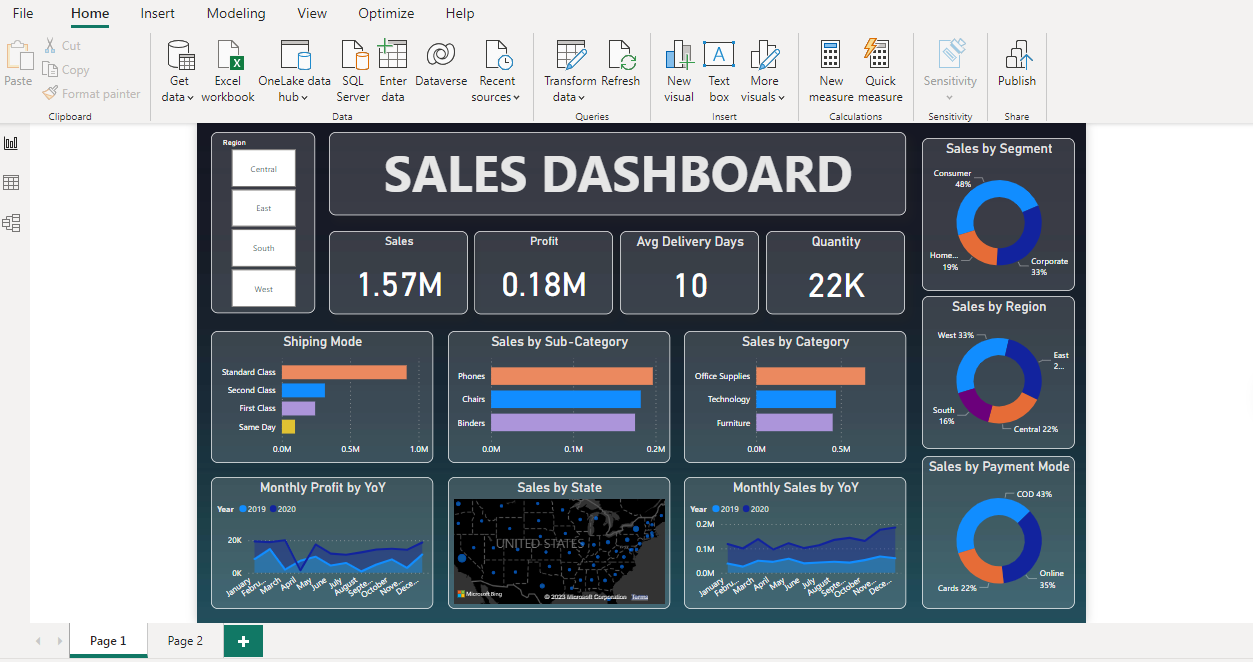

This screenshot's page, from the dashboard's own definition file:
{"tool":"powerbi","page":{"name":"Page 1","canvas":[1280,720],"ordinal":0},"visuals":[{"type":"clusteredBarChart","title":"Sales by Category","fields":{"Category":["SuperStore_Sales_Dataset.Category"],"Y":["Sum(SuperStore_Sales_Dataset.Sales)"]},"box":[701.3,299.5,319.7,190.1],"z":0},{"type":"clusteredBarChart","title":"Sales by Sub-Category","fields":{"Category":["SuperStore_Sales_Dataset.Sub-Category"],"Y":["Sum(SuperStore_Sales_Dataset.Sales)"]},"box":[360.7,299.5,319.7,190.1],"z":1000},{"type":"clusteredBarChart","title":"Shiping Mode","fields":{"Category":["SuperStore_Sales_Dataset.Ship Mode"],"Y":["Sum(SuperStore_Sales_Dataset.Sales)"]},"box":[20.2,299.5,319.7,190.1],"z":2000},{"type":"stackedAreaChart","title":"Monthly Profit by YoY","fields":{"Series":["SuperStore_Sales_Dataset.Order Date.Variation.Date Hierarchy.Year"],"Category":["SuperStore_Sales_Dataset.Order Date.Variation.Date Hierarchy.Month"],"Y":["Sum(SuperStore_Sales_Dataset.Profit)"]},"box":[20.2,509.8,320,190],"z":3000},{"type":"stackedAreaChart","title":"Monthly Sales by YoY","fields":{"Y":["Sum(SuperStore_Sales_Dataset.Sales)"],"Series":["SuperStore_Sales_Dataset.Order Date.Variation.Date Hierarchy.Year"],"Category":["SuperStore_Sales_Dataset.Order Date.Variation.Date Hierarchy.Month"]},"box":[701.3,509.8,319.7,190],"z":4000},{"type":"map","title":"Sales by State","fields":{"Category":["SuperStore_Sales_Dataset.State"],"Size":["Sum(SuperStore_Sales_Dataset.Sales)"]},"box":[360.9,509.8,319.7,190],"z":5000},{"type":"donutChart","title":"Sales by Segment","fields":{"Category":["SuperStore_Sales_Dataset.Segment"],"Y":["Sum(SuperStore_Sales_Dataset.Sales)"]},"box":[1044,21.6,220.3,220.3],"z":6000},{"type":"donutChart","title":"Sales by Region","fields":{"Category":["SuperStore_Sales_Dataset.Region"],"Y":["Sum(SuperStore_Sales_Dataset.Sales)"]},"box":[1044,249.1,220.3,220.3],"z":7000},{"type":"donutChart","title":"Sales by Payment Mode","fields":{"Category":["SuperStore_Sales_Dataset.Payment Mode"],"Y":["Sum(SuperStore_Sales_Dataset.Sales)"]},"box":[1044,479.5,220.3,220.3],"z":8000},{"type":"slicer","fields":{"Values":["SuperStore_Sales_Dataset.Region"]},"box":[20.2,13,149.8,260.6],"z":9000},{"type":"textbox","box":[190.1,13,830.9,119.5],"z":10000},{"type":"card","title":"Profit","fields":{"Values":["Sum(SuperStore_Sales_Dataset.Profit)"]},"box":[398.8,155.5,200.2,119.5],"z":11000},{"type":"card","title":"Avg Delivery Days","fields":{"Values":["Avg(SuperStore_Sales_Dataset.Avg Div)"]},"box":[609.1,155.5,200.2,119.5],"z":13000},{"type":"card","title":"Quantity","fields":{"Values":["Sum(SuperStore_Sales_Dataset.Quantity)"]},"box":[819.4,155.5,200.2,119.5],"z":14000},{"type":"card","title":"Sales","fields":{"Values":["Sum(SuperStore_Sales_Dataset.Sales)"]},"box":[190.1,155.5,200.2,119.5],"z":15000}]}

Visuals, with their boxes on the page's 1280x720 design canvas (x1, y1, x2, y2). These are canvas units, not pixel positions in the 1253x662 screenshot, which may show the page scaled, cropped or inside an application window:
"Sales by Category" clusteredBarChart: bbox=[701, 300, 1021, 490]
"Sales by Sub-Category" clusteredBarChart: bbox=[361, 300, 680, 490]
"Shiping Mode" clusteredBarChart: bbox=[20, 300, 340, 490]
"Monthly Profit by YoY" stackedAreaChart: bbox=[20, 510, 340, 700]
"Monthly Sales by YoY" stackedAreaChart: bbox=[701, 510, 1021, 700]
"Sales by State" map: bbox=[361, 510, 681, 700]
"Sales by Segment" donutChart: bbox=[1044, 22, 1264, 242]
"Sales by Region" donutChart: bbox=[1044, 249, 1264, 469]
"Sales by Payment Mode" donutChart: bbox=[1044, 480, 1264, 700]
slicer - SuperStore_Sales_Dataset.Region: bbox=[20, 13, 170, 274]
textbox: bbox=[190, 13, 1021, 132]
"Profit" card: bbox=[399, 156, 599, 275]
"Avg Delivery Days" card: bbox=[609, 156, 809, 275]
"Quantity" card: bbox=[819, 156, 1020, 275]
"Sales" card: bbox=[190, 156, 390, 275]
